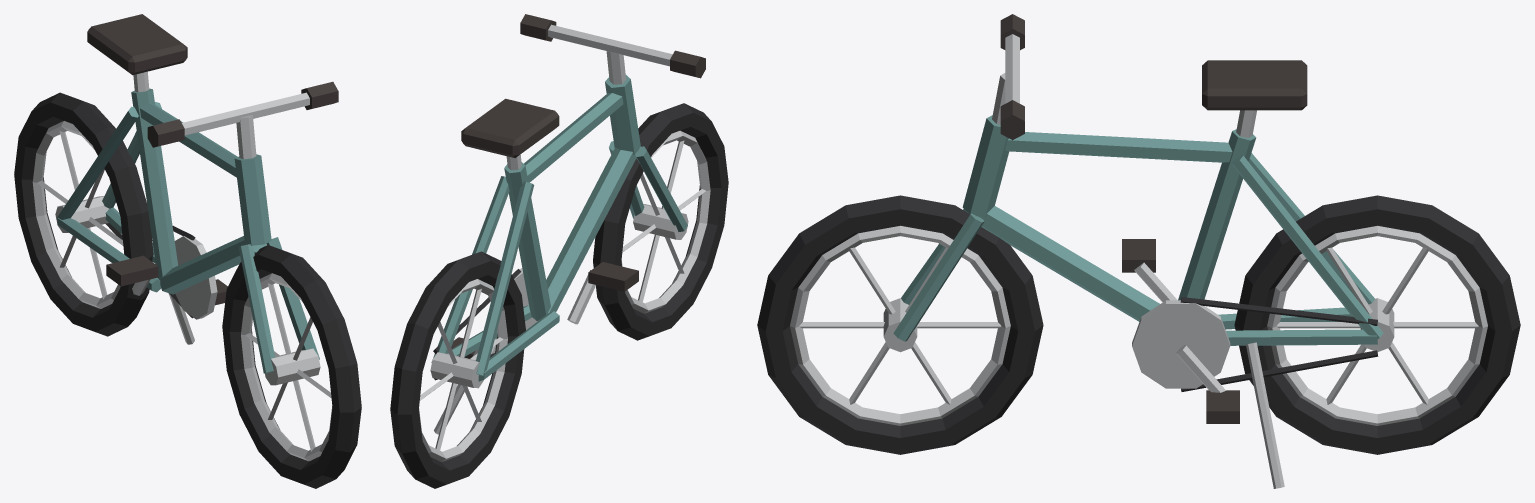
File: bike_no_face.glb
3 views of the same model, side by side, from view 1: azimuth 30°, elevation 25°; view 2: azimuth 150°, elevation 25°; view 3: azimuth 270°, elevation 25° (orthographic). The views are drawn at different scales.
Visible parts, largest first — view 1: BikeNoFace_Tire_F, BikeNoFace_Tire_B, BikeNoFace_Saddle, BikeNoFace_SeatTube, BikeNoFace_Rim_B, BikeNoFace_Rim_F, BikeNoFace_HeadTube, BikeNoFace_DownTube, BikeNoFace_Fork_L, BikeNoFace_Chainring, BikeNoFace_Handlebar, BikeNoFace_SeatStay_L (+13 smaller); view 2: BikeNoFace_Tire_B, BikeNoFace_Tire_F, BikeNoFace_DownTube, BikeNoFace_Saddle, BikeNoFace_SeatTube, BikeNoFace_SeatStay_L, BikeNoFace_Rim_F, BikeNoFace_TopTube, BikeNoFace_Rim_B, BikeNoFace_SeatStay_R, BikeNoFace_Handlebar, BikeNoFace_HeadTube (+14 smaller); view 3: BikeNoFace_Tire_F, BikeNoFace_Tire_B, BikeNoFace_Rim_F, BikeNoFace_Rim_B, BikeNoFace_Chainring, BikeNoFace_Saddle, BikeNoFace_DownTube, BikeNoFace_TopTube, BikeNoFace_SeatTube, BikeNoFace_SeatStay_R, BikeNoFace_HeadTube, BikeNoFace_Fork_R (+11 smaller).
Part boxes in pixels (<box>): BikeNoFace_Tire_F: <box>222,245,361,488</box>; BikeNoFace_Tire_B: <box>14,92,153,336</box>; BikeNoFace_Saddle: <box>87,14,187,75</box>; BikeNoFace_SeatTube: <box>131,88,178,278</box>; BikeNoFace_Rim_B: <box>32,121,124,308</box>; BikeNoFace_Rim_F: <box>241,273,332,461</box>; BikeNoFace_HeadTube: <box>234,154,271,245</box>; BikeNoFace_DownTube: <box>159,236,266,294</box>; BikeNoFace_Fork_L: <box>238,244,274,373</box>; BikeNoFace_Chainring: <box>174,236,217,319</box>; BikeNoFace_Handlebar: <box>182,92,309,135</box>; BikeNoFace_SeatStay_L: <box>56,106,138,219</box>; BikeNoFace_Tire_B: <box>390,251,525,488</box>; BikeNoFace_Tire_F: <box>593,103,728,340</box>; BikeNoFace_DownTube: <box>546,147,636,313</box>; BikeNoFace_Saddle: <box>461,98,559,157</box>; BikeNoFace_SeatTube: <box>504,162,550,320</box>; BikeNoFace_SeatStay_L: <box>476,181,534,375</box>; BikeNoFace_Rim_F: <box>621,130,710,313</box>; BikeNoFace_TopTube: <box>524,93,623,182</box>; BikeNoFace_Rim_B: <box>419,279,507,461</box>; BikeNoFace_SeatStay_R: <box>431,176,509,362</box>; BikeNoFace_Handlebar: <box>548,24,672,66</box>; BikeNoFace_HeadTube: <box>605,75,640,154</box>; BikeNoFace_Tire_F: <box>757,195,1043,454</box>; BikeNoFace_Tire_B: <box>1234,195,1520,454</box>; BikeNoFace_Rim_F: <box>790,225,1010,425</box>; BikeNoFace_Rim_B: <box>1267,225,1487,425</box>; BikeNoFace_Chainring: <box>1132,300,1230,388</box>; BikeNoFace_Saddle: <box>1202,60,1307,110</box>; BikeNoFace_DownTube: <box>978,206,1159,321</box>; BikeNoFace_TopTube: <box>1005,132,1232,162</box>; BikeNoFace_SeatTube: <box>1178,129,1256,300</box>; BikeNoFace_SeatStay_R: <box>1231,155,1383,339</box>; BikeNoFace_HeadTube: <box>962,115,1009,217</box>; BikeNoFace_Fork_R: <box>893,213,984,341</box>.
Size of the model in its own units: 0.17 by 0.307 by 0.544.
